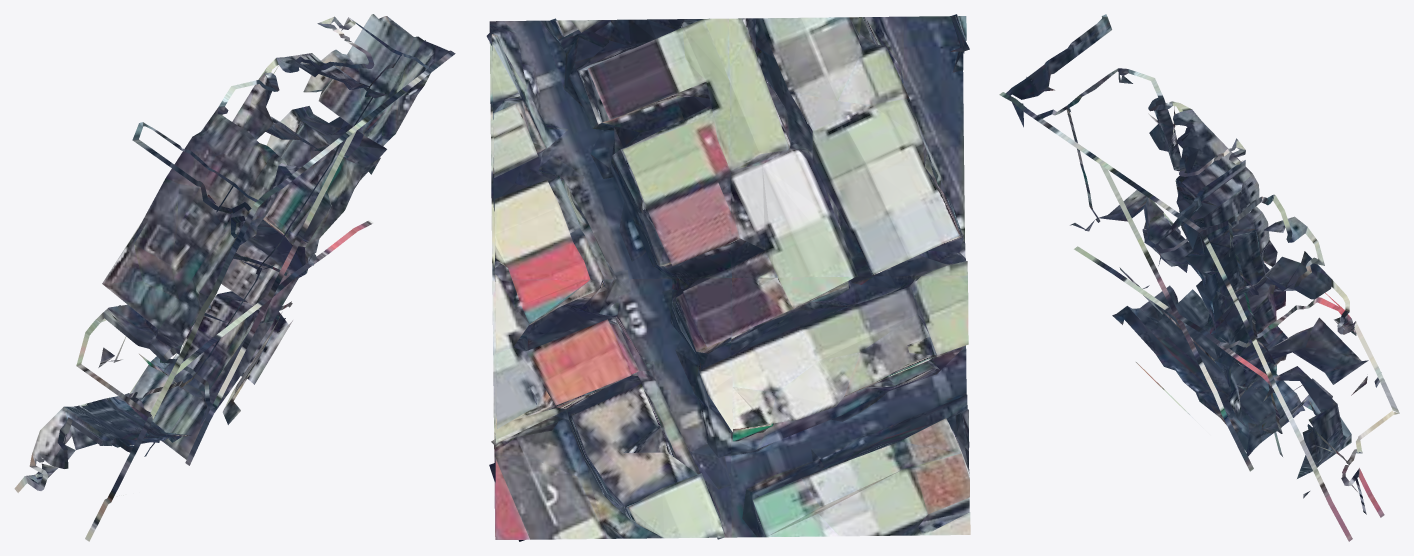
3 renders of one model, left to right at view 1: azimuth 30°, elevation 25°; view 2: azimuth 150°, elevation 25°; view 3: azimuth 270°, elevation 25°, orthographic. The views are drawn at different scales.
Bounding box in the file's own units: 83.39 × 79.8 × 72.37.
1 material, 1 textured.
